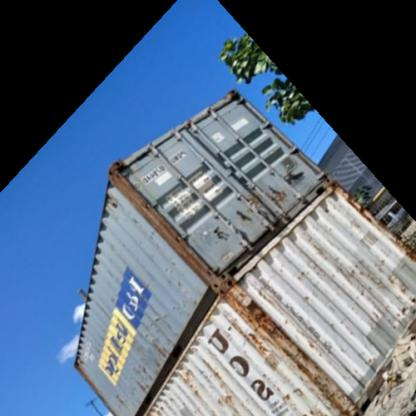Damage: (224, 299, 352, 415), (342, 254, 415, 316), (155, 256, 201, 308), (140, 312, 166, 359), (173, 365, 200, 405), (89, 322, 115, 354), (128, 361, 156, 390), (308, 232, 335, 259), (264, 180, 291, 206), (282, 256, 308, 283), (230, 204, 257, 223), (346, 212, 367, 234), (148, 215, 162, 246), (107, 384, 123, 410), (131, 213, 140, 228)
